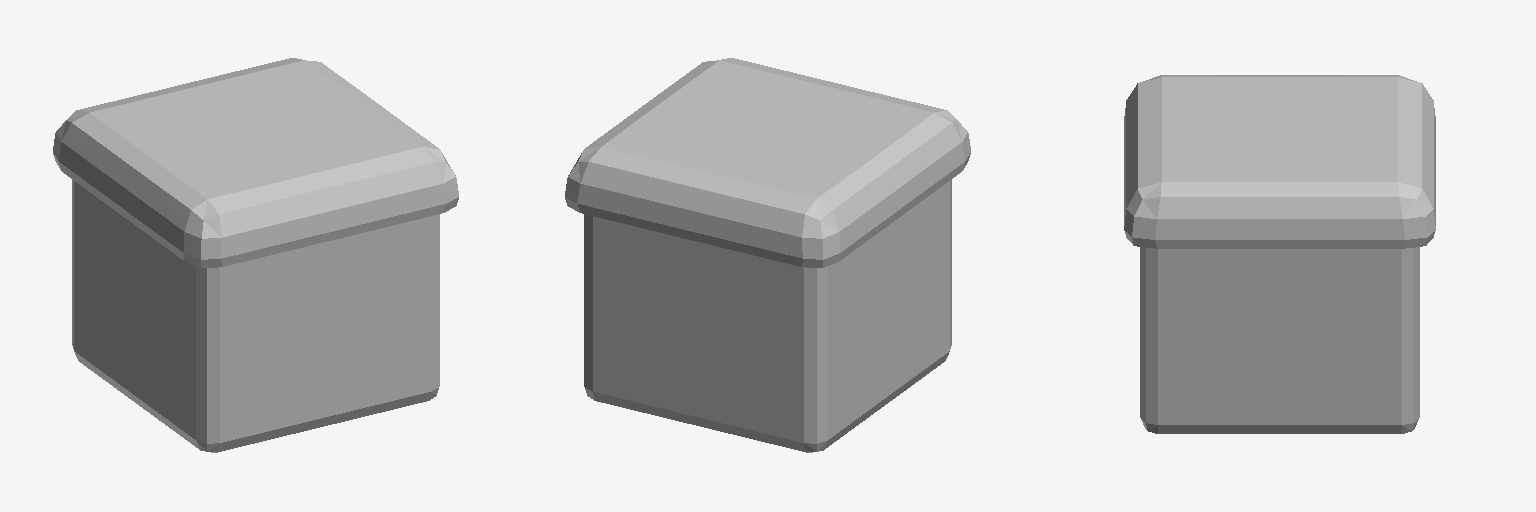
File: cube_grass.obj
3 views of the same model, side by side, from view 1: azimuth 30°, elevation 25°; view 2: azimuth 150°, elevation 25°; view 3: azimuth 270°, elevation 25° (orthographic).
Parts seen in each view (by area): view 1: cube_grass; view 2: cube_grass; view 3: cube_grass.
Part boxes in pixels (bbox=[...]): cube_grass: bbox=[53, 58, 458, 452]; cube_grass: bbox=[565, 58, 970, 452]; cube_grass: bbox=[1124, 75, 1435, 433].
Size of the model in its own units: 1.12 by 0.998 by 1.12.